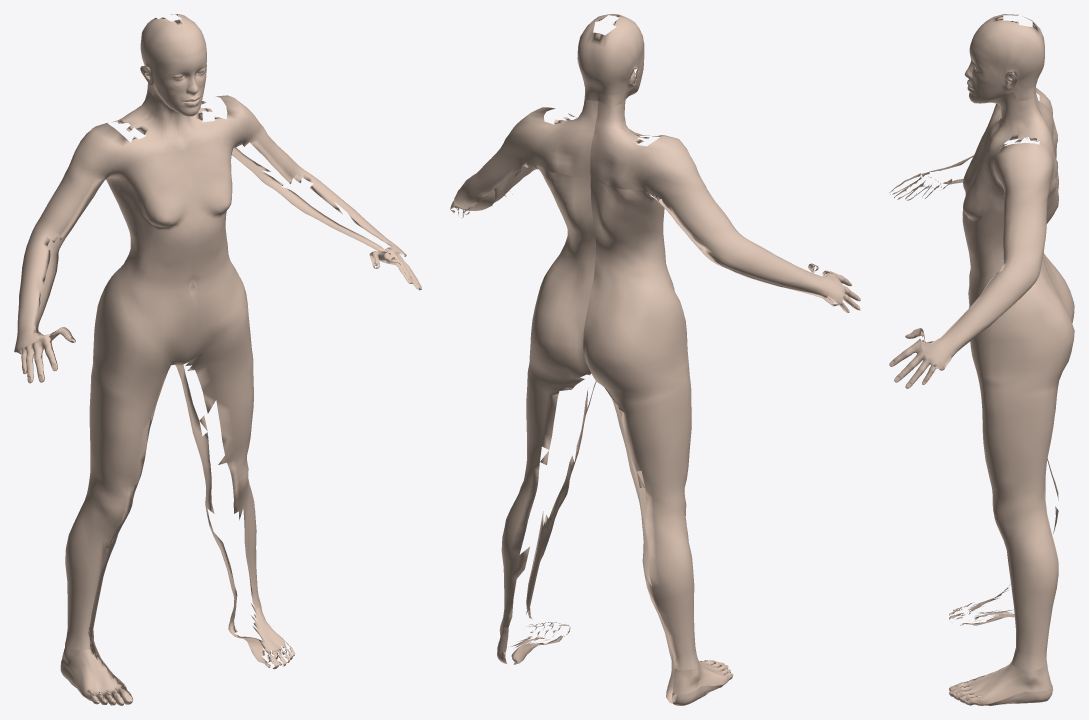
The model's file is inkverse-female.glb.
3 views of the same model, side by side, from view 1: azimuth 30°, elevation 25°; view 2: azimuth 150°, elevation 25°; view 3: azimuth 270°, elevation 25° (orthographic).
Parts seen in each view (by area): view 1: Body; view 2: Body; view 3: Body.
Part boxes in pixels (bbox=[...]): Body: bbox=[14, 14, 421, 705]; Body: bbox=[450, 14, 860, 705]; Body: bbox=[889, 14, 1074, 705].
Size of the model in its own units: 1.18 by 1.86 by 0.4864.
